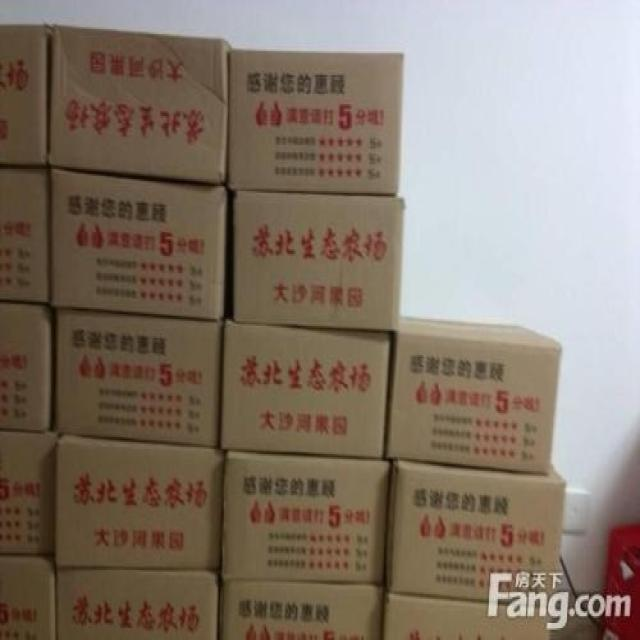box: (47, 26, 234, 184), (384, 316, 564, 474), (47, 164, 227, 319), (387, 459, 568, 608), (227, 48, 406, 195), (225, 189, 407, 333), (54, 428, 224, 572), (219, 319, 394, 457), (52, 305, 223, 445), (219, 447, 390, 582), (56, 567, 219, 640), (219, 580, 387, 640), (383, 592, 556, 640), (0, 428, 58, 555), (1, 164, 52, 305), (0, 300, 54, 428), (0, 555, 56, 640), (552, 560, 599, 640)
